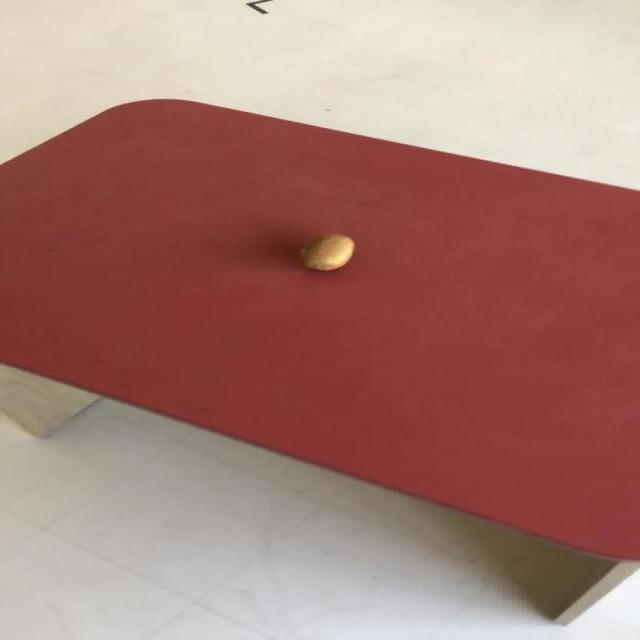Kiwi: (298, 232, 354, 270)
